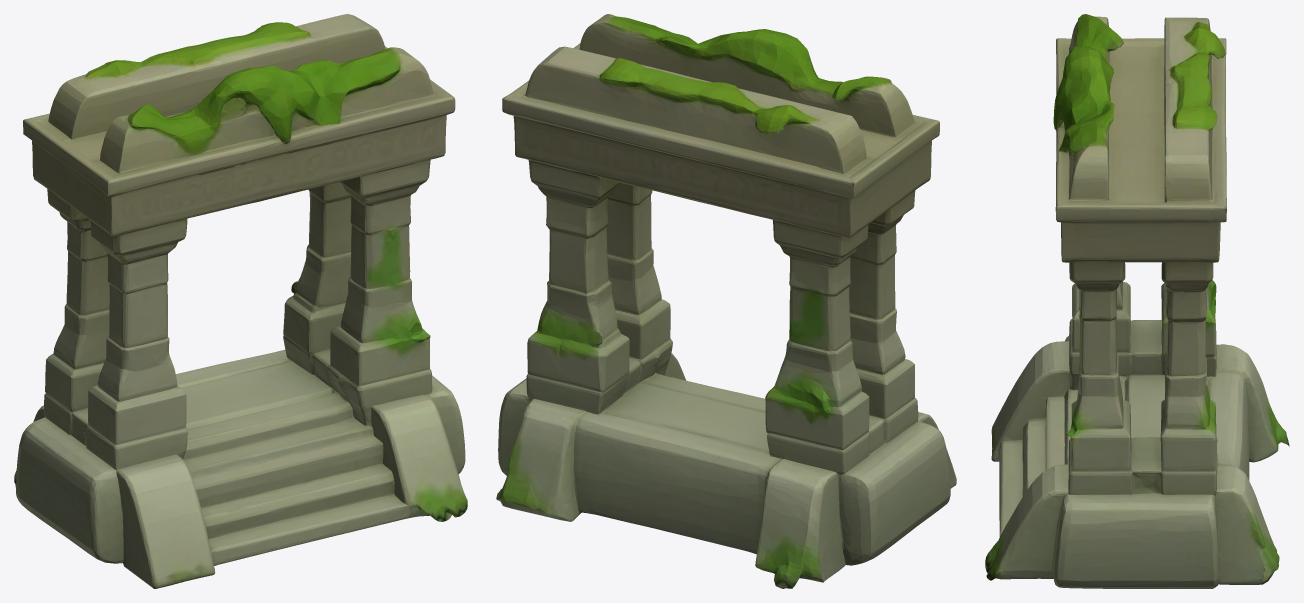
The model's file is entrance-stonegrassy.glb.
3 views of the same model, side by side, from view 1: azimuth 30°, elevation 25°; view 2: azimuth 150°, elevation 25°; view 3: azimuth 270°, elevation 25° (orthographic).
Parts seen in each view (by area): view 1: world; view 2: world; view 3: world.
Boxes of the visible parts, x1,y1,x2,y2 form: world: [14, 14, 467, 588]; world: [496, 14, 956, 588]; world: [985, 14, 1289, 588].
Size of the model in its own units: 0.8615 by 0.995 by 0.6108.
Materials: 1 (1 with a texture image).
